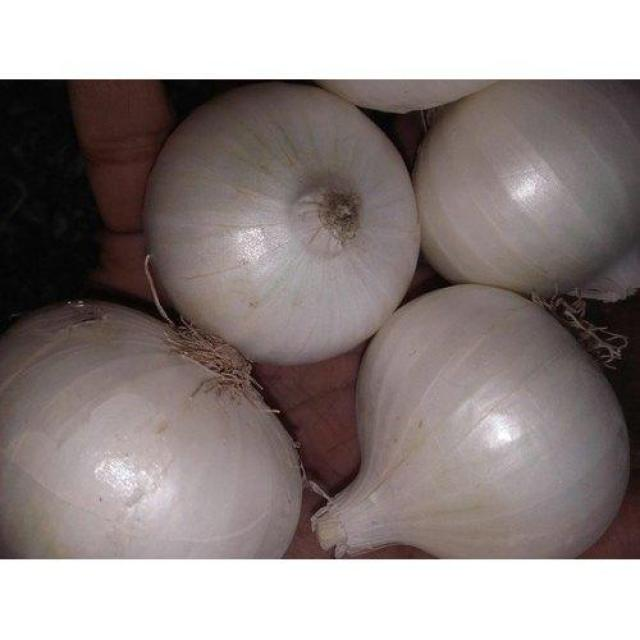Onion: (75, 91, 428, 509), (1, 283, 311, 640), (338, 284, 634, 556), (356, 83, 635, 295), (318, 78, 494, 114)
